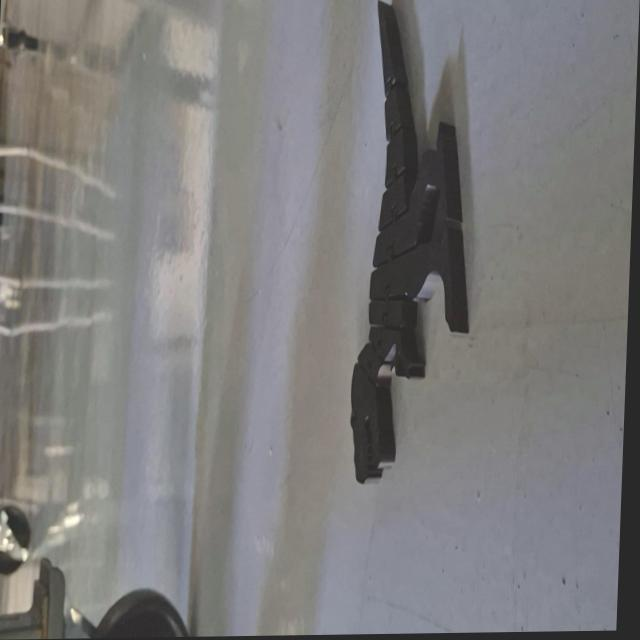dino: (346, 0, 482, 486)
